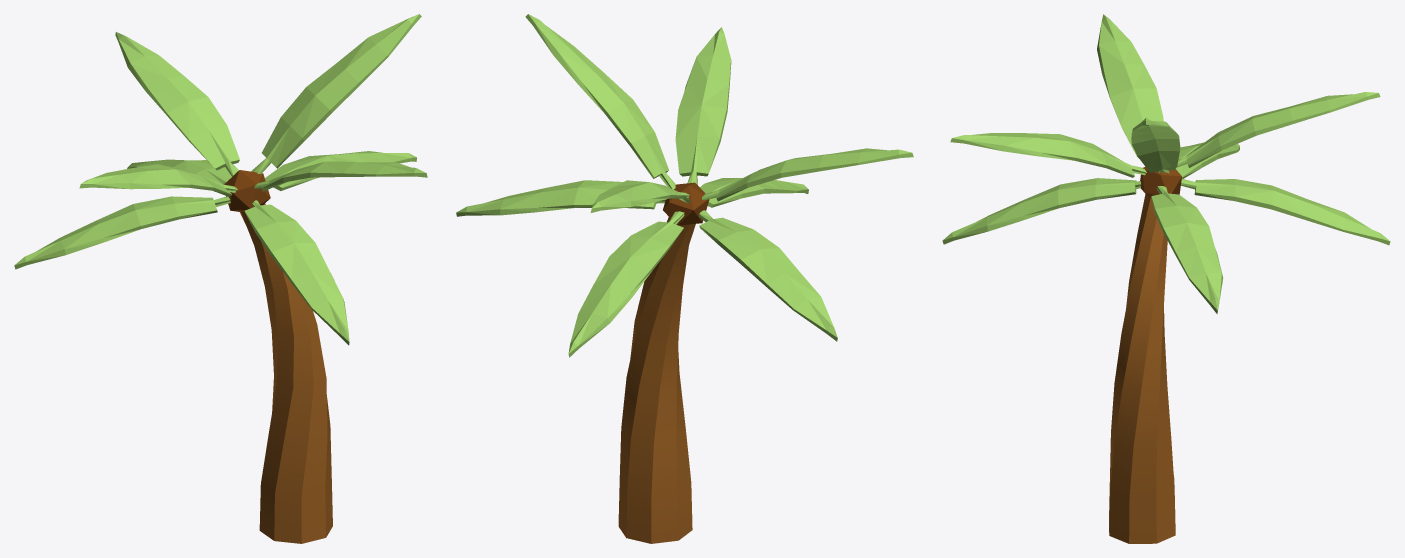
File: Tree_Palm_01.fbx
3 views of the same model, side by side, from view 1: azimuth 30°, elevation 25°; view 2: azimuth 150°, elevation 25°; view 3: azimuth 270°, elevation 25° (orthographic). The views are drawn at different scales.
Visible parts, largest first — view 1: Tree_Palm1; view 2: Tree_Palm1; view 3: Tree_Palm1.
Part boxes in pixels (bbox=[...]): Tree_Palm1: bbox=[14, 14, 427, 543]; Tree_Palm1: bbox=[456, 14, 913, 543]; Tree_Palm1: bbox=[942, 14, 1390, 543].
Bounding box in the file's own units: 6.93 × 8.06 × 6.99.
